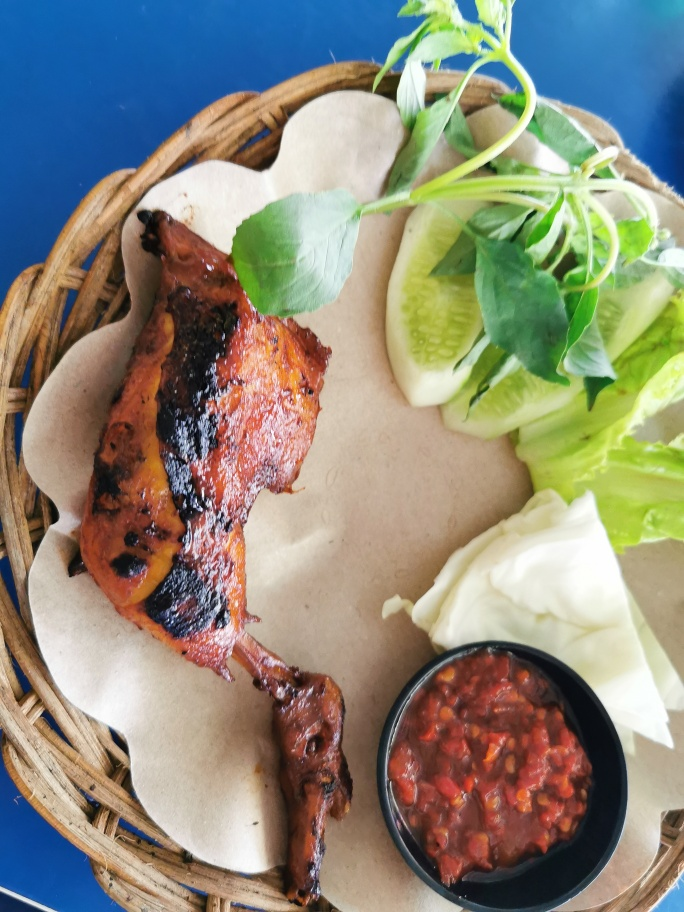ayam bakar: (60, 206, 392, 901)
